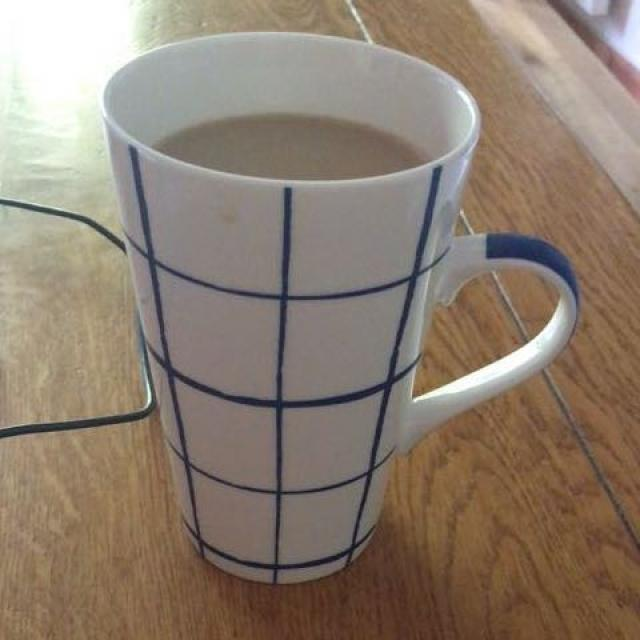coffee: (155, 113, 423, 179)
